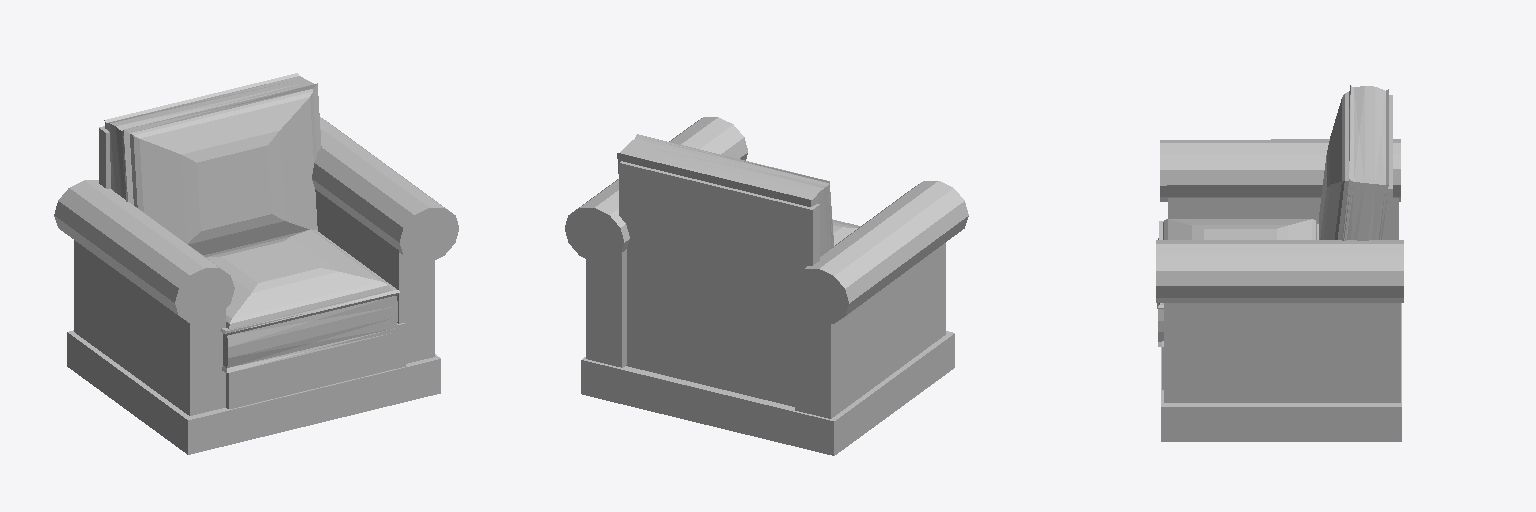
File: lazy.obj
The picture shows the model from 3 angles: view 1: azimuth 30°, elevation 25°; view 2: azimuth 150°, elevation 25°; view 3: azimuth 270°, elevation 25°; orthographic projection.
Parts seen in each view (by area): view 1: cushion5, cushion2, Box6, Box4, Circle1, Circle, Box3, Box5, Box7; view 2: Box7, Box6, Box4, Circle1, cushion5, Circle, Box3; view 3: Box3, Circle, Circle1, Box6, cushion5, cushion2, Box4, Box7.
Boxes of the visible parts, <box> form: cushion5: <box>104,73,321,254</box>; cushion2: <box>203,229,399,373</box>; Box6: <box>67,330,440,454</box>; Box4: <box>74,240,225,415</box>; Circle1: <box>54,180,234,322</box>; Circle: <box>312,117,458,262</box>; Box3: <box>315,189,434,363</box>; Box5: <box>226,323,405,408</box>; Box7: <box>99,126,110,188</box>; Box7: <box>619,161,819,406</box>; Box6: <box>581,331,954,455</box>; Box4: <box>795,243,945,418</box>; Circle1: <box>789,181,968,323</box>; cushion5: <box>617,134,833,256</box>; Circle: <box>565,117,747,262</box>; Box3: <box>586,249,626,367</box>; Box3: <box>1164,303,1400,402</box>; Circle: <box>1156,240,1403,302</box>; Circle1: <box>1160,139,1400,201</box>; Box6: <box>1161,303,1401,441</box>; cushion5: <box>1319,85,1388,240</box>; cushion2: <box>1157,219,1318,346</box>; Box4: <box>1168,198,1398,239</box>; Box7: <box>1382,95,1392,239</box>.
Bounding box in the file's own units: 2 × 1.68 × 1.52.